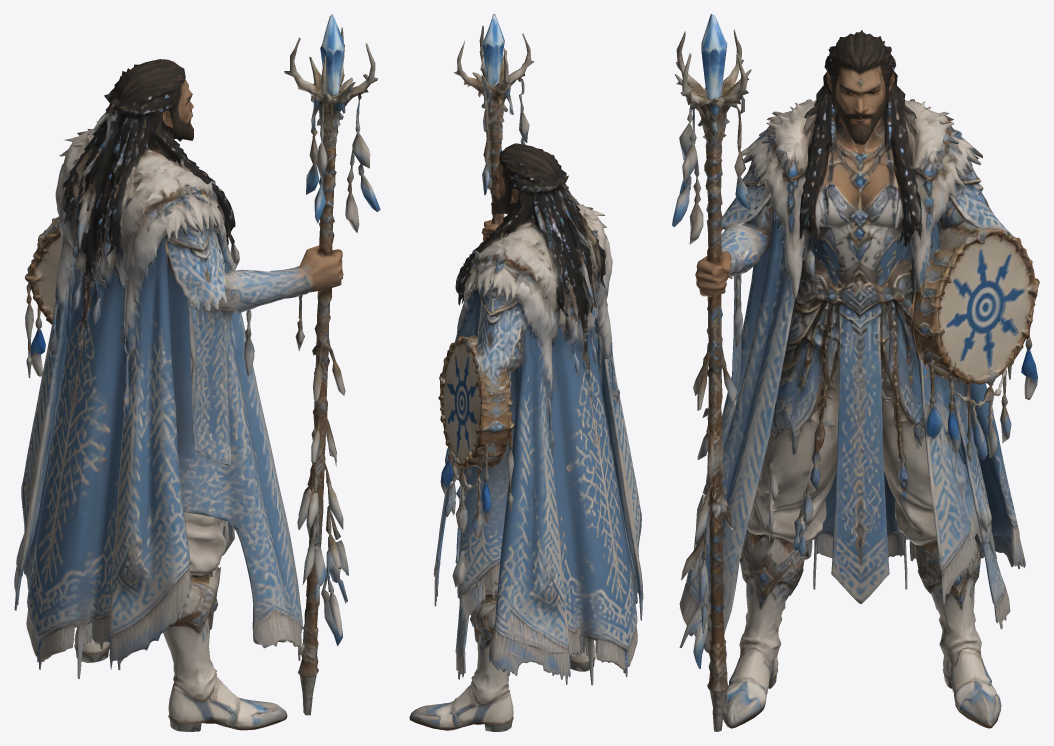
The model's file is drumcalleralt_T8-tripo.glb.
The picture shows the model from 3 angles, left to right: view 1: azimuth 30°, elevation 25°; view 2: azimuth 150°, elevation 25°; view 3: azimuth 270°, elevation 25°; orthographic projection. The views are drawn at different scales.
Visible parts, largest first — view 1: tripo_node_c2955b42-6e92-4f27-ab09-c1973c4c5e7a; view 2: tripo_node_c2955b42-6e92-4f27-ab09-c1973c4c5e7a; view 3: tripo_node_c2955b42-6e92-4f27-ab09-c1973c4c5e7a.
Boxes of the visible parts, x1,y1,x2,y2 form: tripo_node_c2955b42-6e92-4f27-ab09-c1973c4c5e7a: [14, 14, 380, 731]; tripo_node_c2955b42-6e92-4f27-ab09-c1973c4c5e7a: [409, 14, 643, 731]; tripo_node_c2955b42-6e92-4f27-ab09-c1973c4c5e7a: [672, 14, 1039, 731].
Bounding box in the file's own units: 0.3811 × 1 × 0.4545.
Materials: 1 (1 with a texture image).
